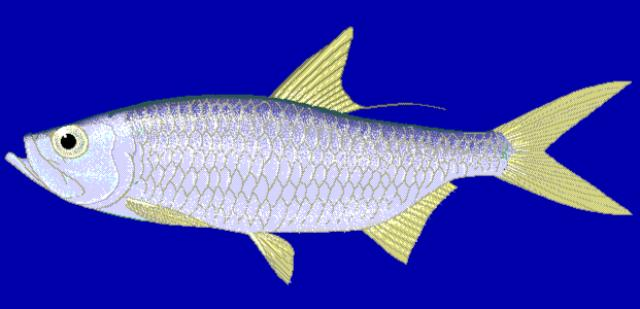Mulut: (3, 124, 45, 184)
Sirip Anal: (364, 180, 462, 270)
Sirip Dada: (125, 196, 215, 238)
Sirip Ekor: (497, 80, 635, 218)
Sirip Perut: (248, 228, 298, 292)
Sirip Punggung: (270, 25, 452, 125)
